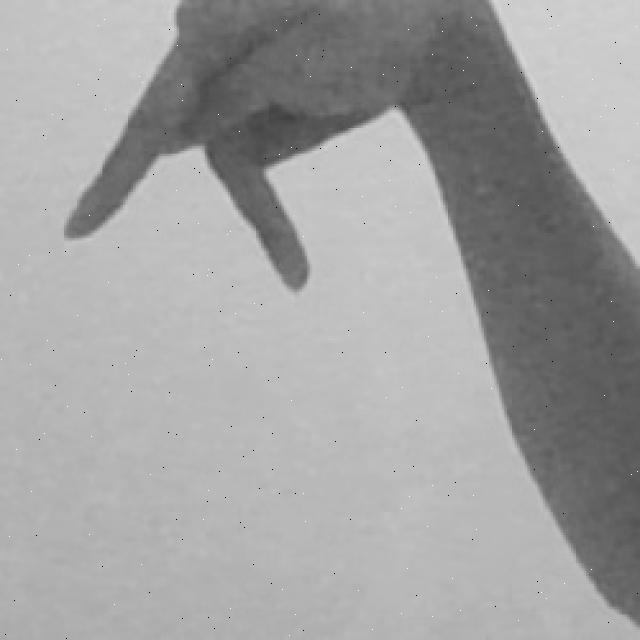P: (58, 0, 640, 628)
